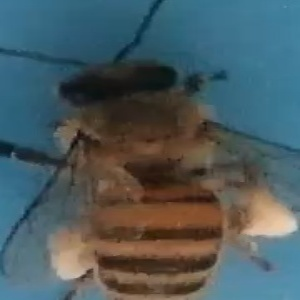bee: (5, 43, 298, 297)
